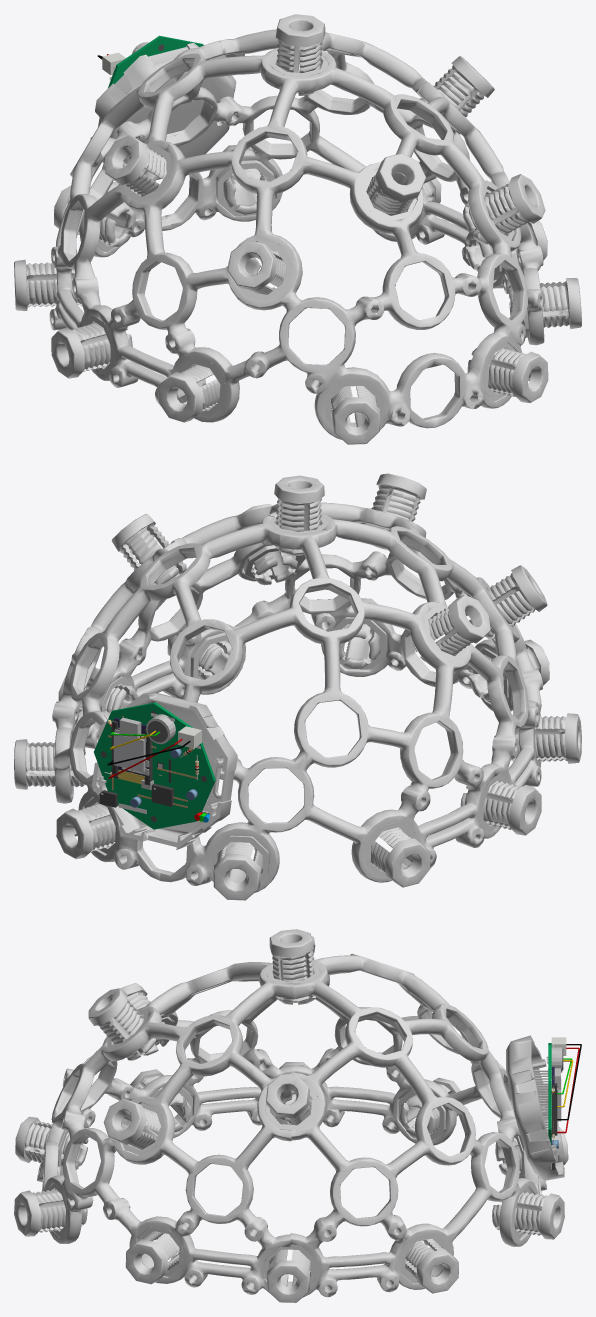
The model's file is 100_final_octagon_design.glb.
3 renders of one model, top to bottom at view 1: azimuth 30°, elevation 25°; view 2: azimuth 150°, elevation 25°; view 3: azimuth 270°, elevation 25°, orthographic. The views are drawn at different scales.
Visible parts, largest first — view 1: Ultracortex assembly with mirror, Realistic_Octagon_Circuit; view 2: Ultracortex assembly with mirror, Realistic_Octagon_Circuit; view 3: Ultracortex assembly with mirror, Realistic_Octagon_Circuit.
Part boxes in pixels (<box>): Ultracortex assembly with mirror: <box>14,14,581,444</box>; Realistic_Octagon_Circuit: <box>97,35,203,87</box>; Ultracortex assembly with mirror: <box>14,473,581,900</box>; Realistic_Octagon_Circuit: <box>94,702,215,829</box>; Ultracortex assembly with mirror: <box>14,929,568,1302</box>; Realistic_Octagon_Circuit: <box>534,1037,581,1169</box>.
Size of the model in its own units: 232 by 145 by 269.
